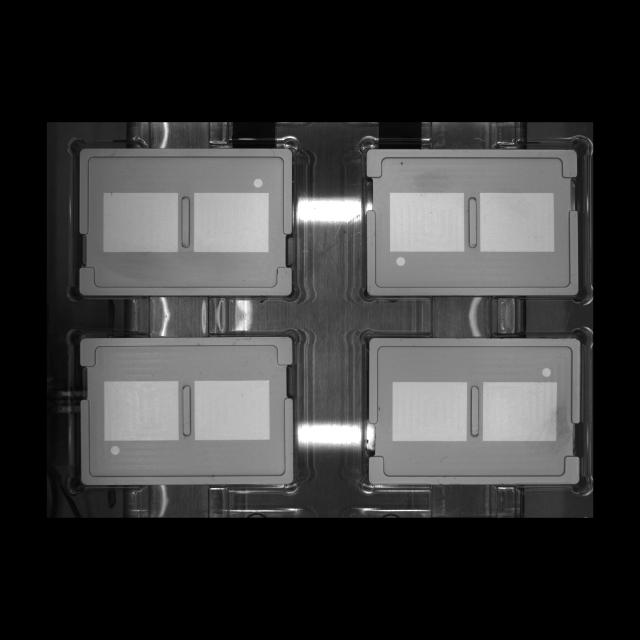product: (355, 134, 589, 305), (68, 136, 305, 304), (69, 326, 304, 494), (357, 328, 589, 496)
